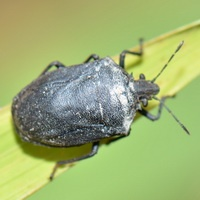insect: (12, 40, 158, 146)
